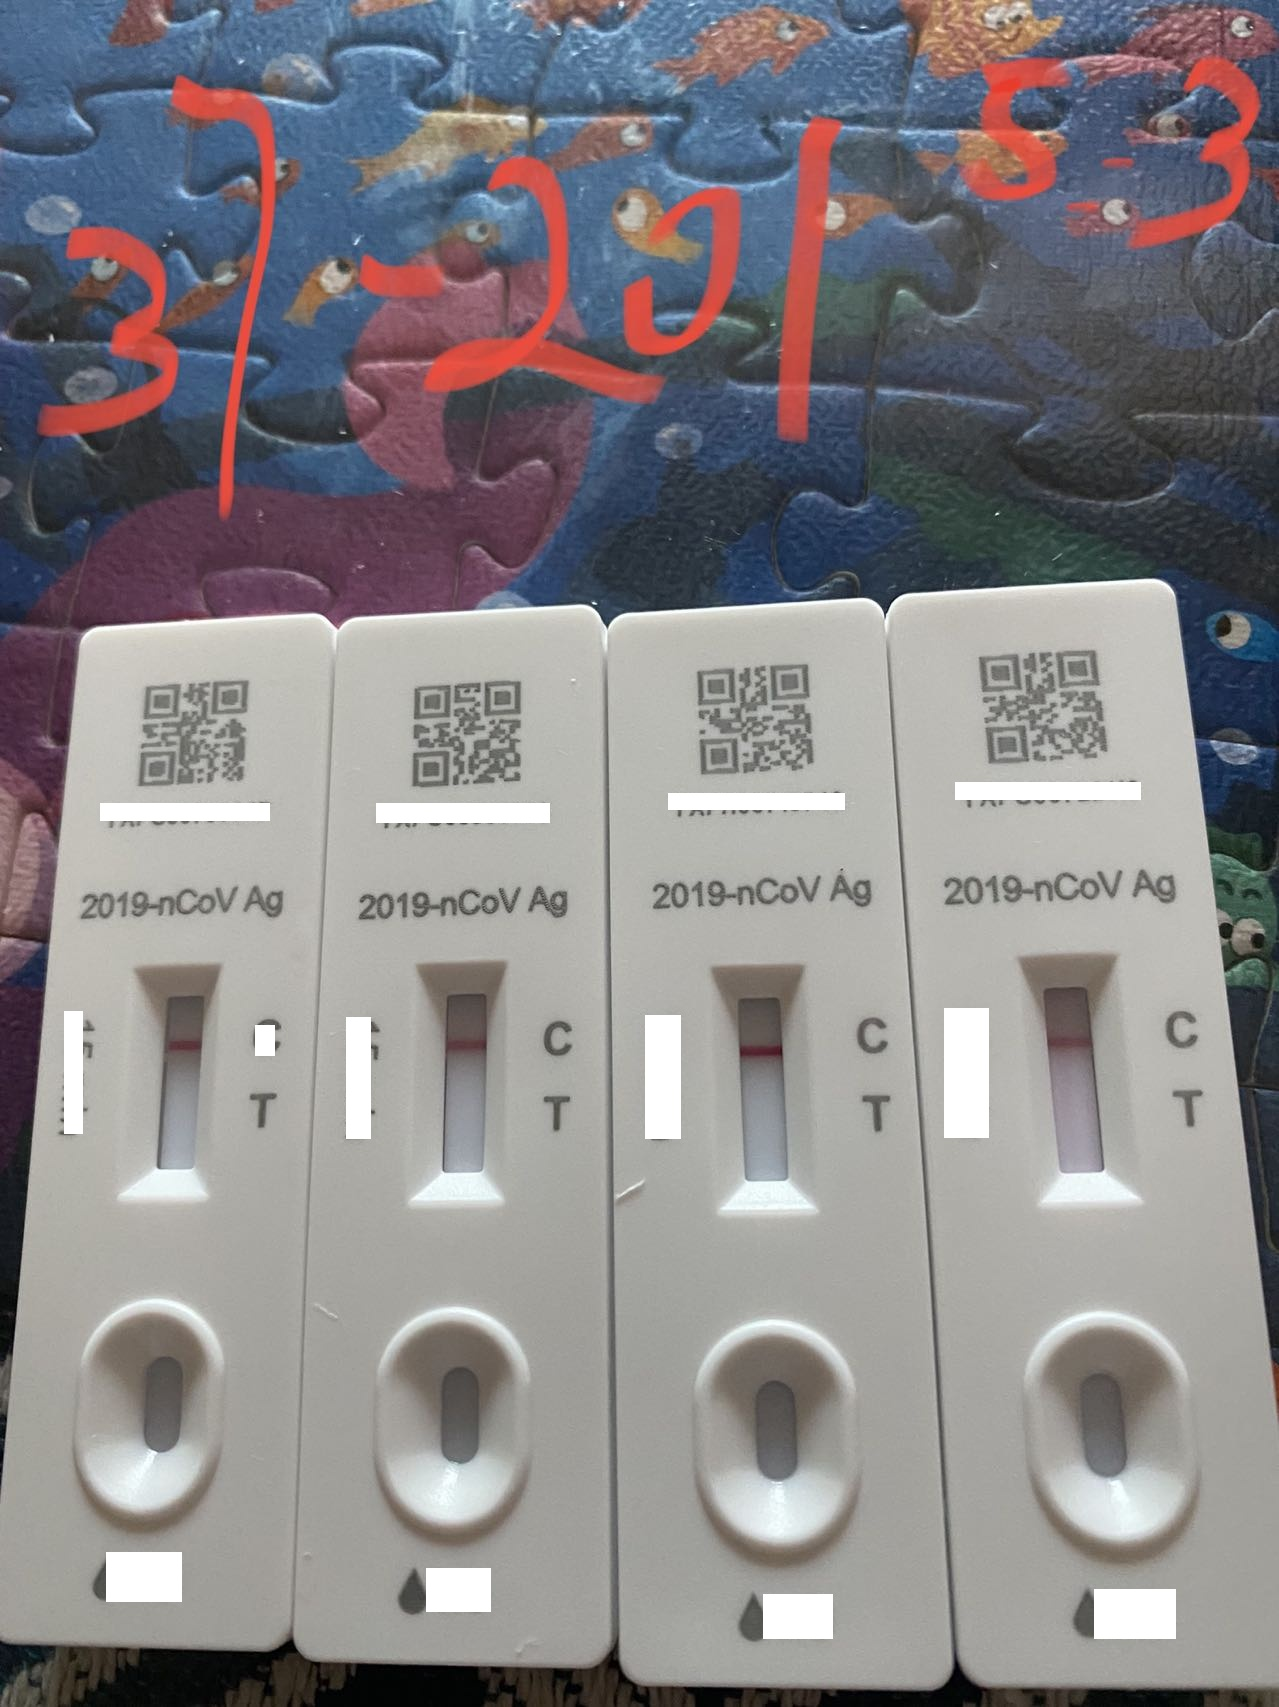negative: (1024, 950, 1129, 1201), (716, 962, 813, 1207), (418, 960, 511, 1203), (132, 966, 227, 1197)
